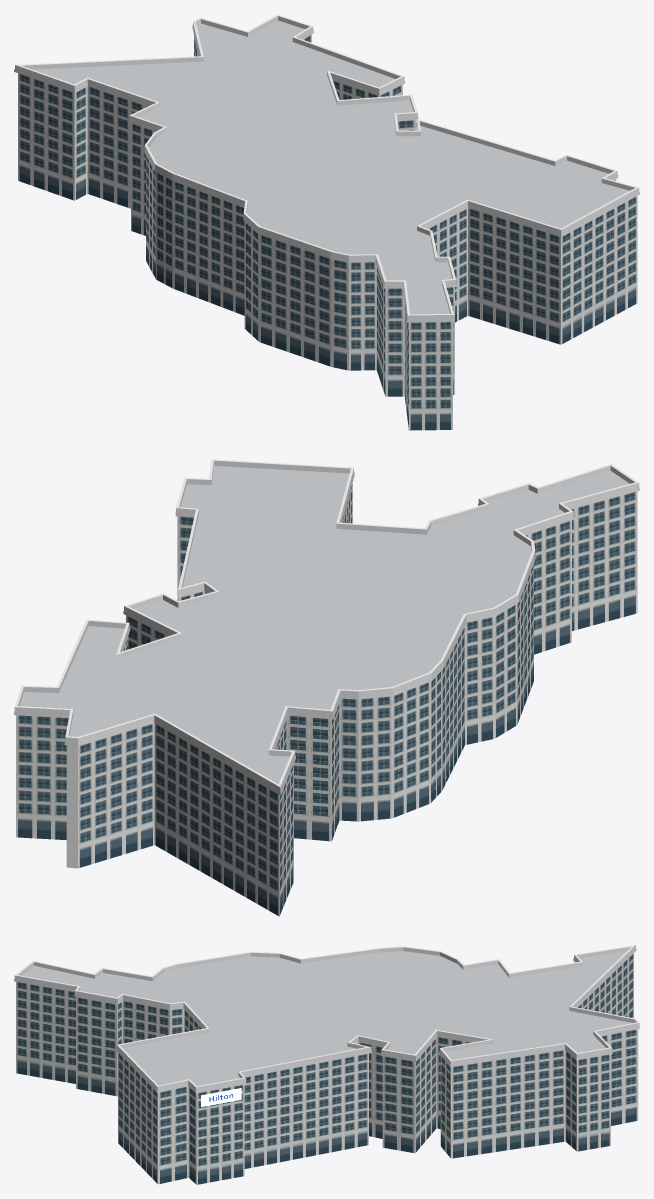
Rendered from hilton.glb.
3 views of the same model, one above another, from view 1: azimuth 30°, elevation 25°; view 2: azimuth 150°, elevation 25°; view 3: azimuth 270°, elevation 25° (orthographic). The views are drawn at different scales.
Parts seen in each view (by area): view 1: hilton_lod0; view 2: hilton_lod0; view 3: hilton_lod0.
Part boxes in pixels (<box>): hilton_lod0: <box>14,14,639,430</box>; hilton_lod0: <box>14,459,639,916</box>; hilton_lod0: <box>14,945,639,1184</box>.
Size of what is drawn, in the model's own units: 87.78 by 28.09 by 163.
5 materials, 3 textured.
